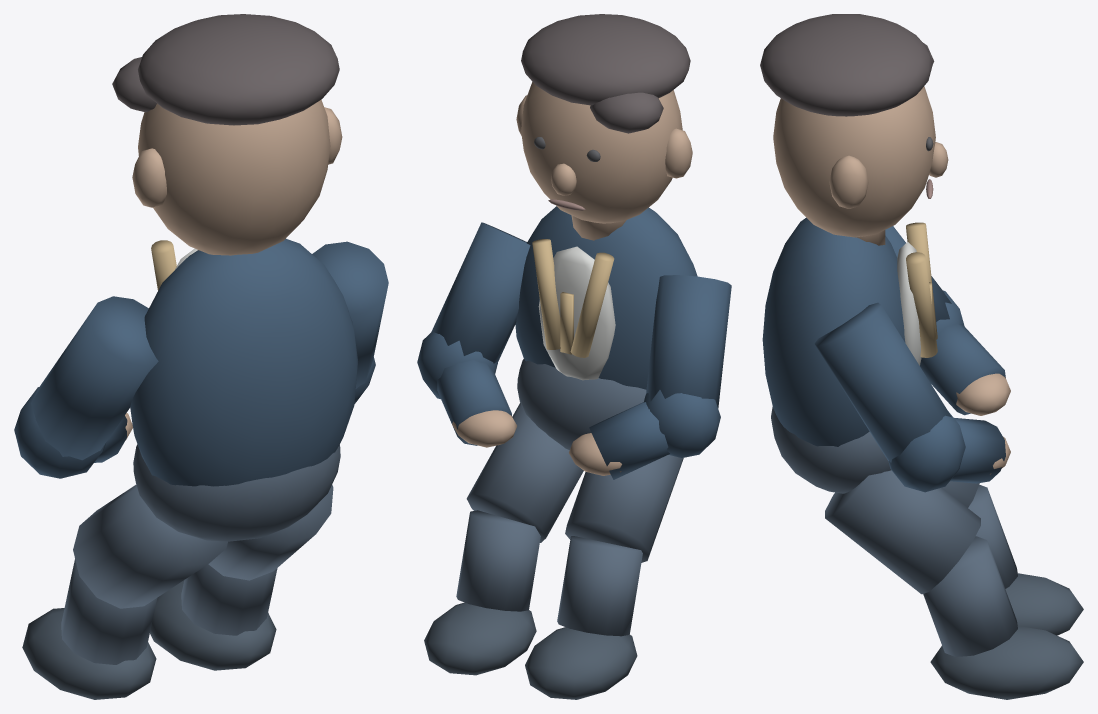
File: f3b-agent-1.glb
3 views of the same model, side by side, from view 1: azimuth 30°, elevation 25°; view 2: azimuth 150°, elevation 25°; view 3: azimuth 270°, elevation 25° (orthographic). The views are drawn at different scales.
Parts seen in each view (by area): view 1: f3b-agent-1-01, f3b-agent-1-07, f3b-agent-1-14, f3b-agent-1-16, f3b-agent-1-20, f3b-agent-1-00, f3b-agent-1-22, f3b-agent-1-21, f3b-agent-1-29, f3b-agent-1-23, f3b-agent-1-28, f3b-agent-1-27 (+6 smaller); view 2: f3b-agent-1-07, f3b-agent-1-01, f3b-agent-1-14, f3b-agent-1-16, f3b-agent-1-23, f3b-agent-1-27, f3b-agent-1-20, f3b-agent-1-21, f3b-agent-1-28, f3b-agent-1-00, f3b-agent-1-29, f3b-agent-1-22 (+14 smaller); view 3: f3b-agent-1-01, f3b-agent-1-07, f3b-agent-1-14, f3b-agent-1-27, f3b-agent-1-23, f3b-agent-1-28, f3b-agent-1-29, f3b-agent-1-00, f3b-agent-1-18, f3b-agent-1-24, f3b-agent-1-22, f3b-agent-1-25 (+8 smaller).
Boxes of the visible parts, left/top/right/bottom form: f3b-agent-1-01: left=130, top=239, right=357, bottom=486; f3b-agent-1-07: left=138, top=99, right=330, bottom=255; f3b-agent-1-14: left=138, top=14, right=339, bottom=125; f3b-agent-1-16: left=31, top=296, right=158, bottom=460; f3b-agent-1-20: left=73, top=485, right=227, bottom=608; f3b-agent-1-00: left=133, top=444, right=340, bottom=541; f3b-agent-1-22: left=22, top=608, right=156, bottom=699; f3b-agent-1-21: left=61, top=559, right=157, bottom=664; f3b-agent-1-29: left=150, top=580, right=276, bottom=670; f3b-agent-1-23: left=312, top=241, right=388, bottom=388; f3b-agent-1-28: left=181, top=564, right=277, bottom=635; f3b-agent-1-27: left=208, top=484, right=333, bottom=580; f3b-agent-1-07: left=521, top=82, right=682, bottom=223; f3b-agent-1-01: left=515, top=206, right=697, bottom=389; f3b-agent-1-14: left=521, top=14, right=690, bottom=105; f3b-agent-1-16: left=646, top=275, right=731, bottom=408; f3b-agent-1-23: left=431, top=222, right=530, bottom=363; f3b-agent-1-27: left=466, top=403, right=583, bottom=542; f3b-agent-1-20: left=565, top=455, right=683, bottom=562; f3b-agent-1-21: left=557, top=536, right=642, bottom=636; f3b-agent-1-28: left=456, top=510, right=540, bottom=611; f3b-agent-1-00: left=517, top=359, right=646, bottom=449; f3b-agent-1-29: left=424, top=602, right=536, bottom=675; f3b-agent-1-22: left=525, top=627, right=637, bottom=699; f3b-agent-1-01: left=762, top=217, right=905, bottom=446; f3b-agent-1-07: left=773, top=86, right=935, bottom=237; f3b-agent-1-14: left=760, top=14, right=932, bottom=116; f3b-agent-1-27: left=825, top=470, right=980, bottom=594; f3b-agent-1-23: left=814, top=302, right=951, bottom=462; f3b-agent-1-28: left=923, top=536, right=1017, bottom=656; f3b-agent-1-29: left=930, top=626, right=1083, bottom=699; f3b-agent-1-00: left=771, top=407, right=890, bottom=493; f3b-agent-1-18: left=920, top=323, right=1005, bottom=415; f3b-agent-1-24: left=888, top=411, right=965, bottom=492; f3b-agent-1-22: left=1005, top=573, right=1083, bottom=635; f3b-agent-1-25: left=950, top=418, right=1005, bottom=483.
Size of the model in its own units: 1.11 by 2.14 by 0.987.
